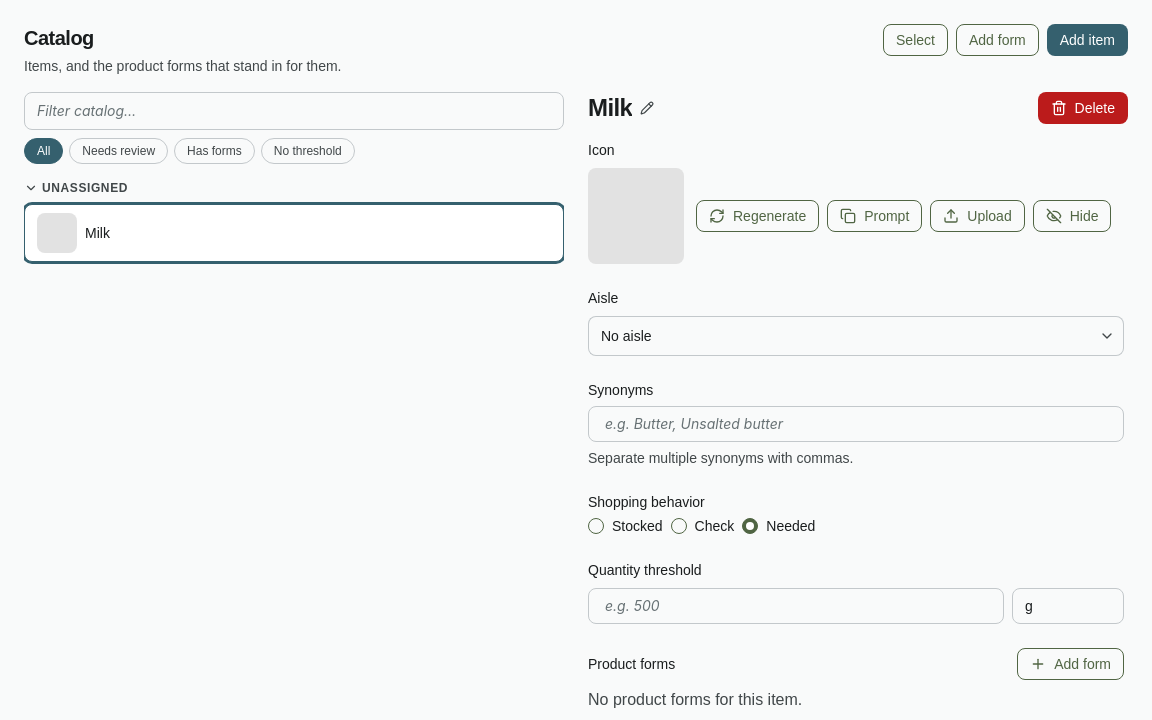
Scenario: the catalog record editor — the regenerate dialog’s own surface › is titled and framed as an optional steer, not a confirmation
The image size is (1152, 720).
Step 1. Click the button with test id "canon-detail-icon-regenerate" → (758, 216), box [696,200,819,232]
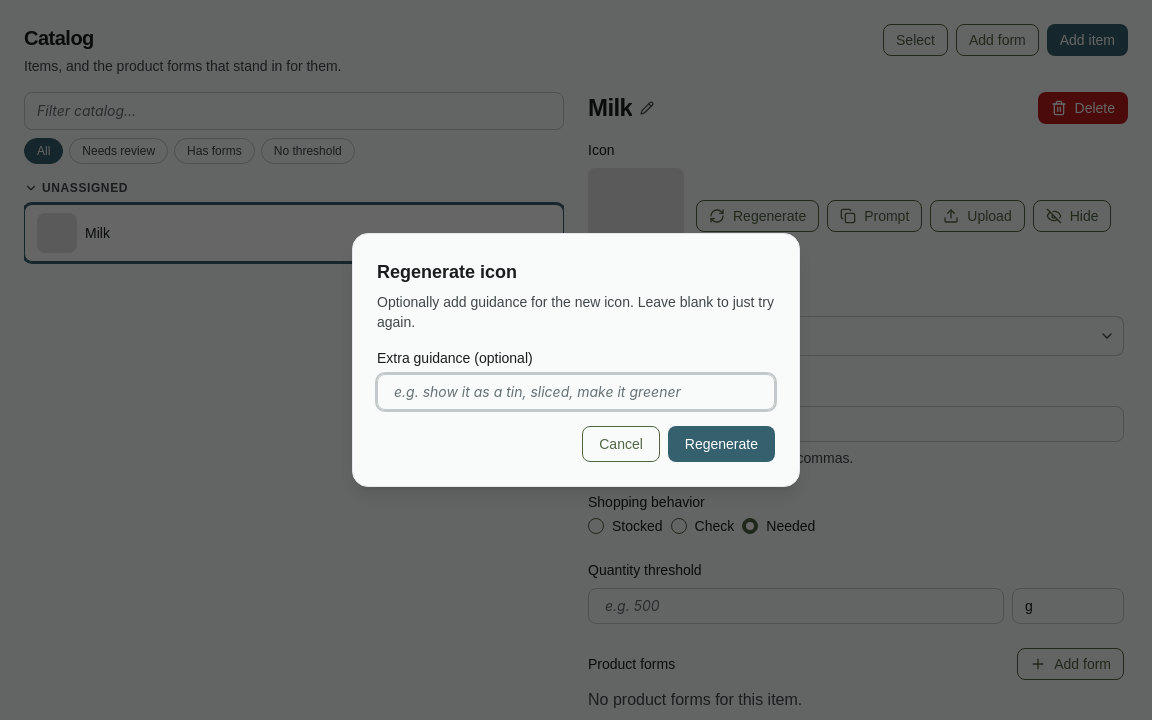
Result: the heading "Regenerate icon" is shown at [377,262,517,282]
Result: the text "Optionally add guidance for the new icon. Leave blank to just try again." is shown at [377,292,775,332]
Result: the text "Extra guidance (optional)" is shown at [377,350,533,366]
